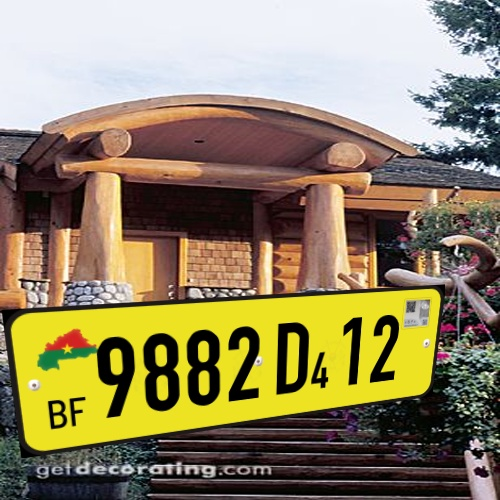plate: (5, 279, 459, 459)
